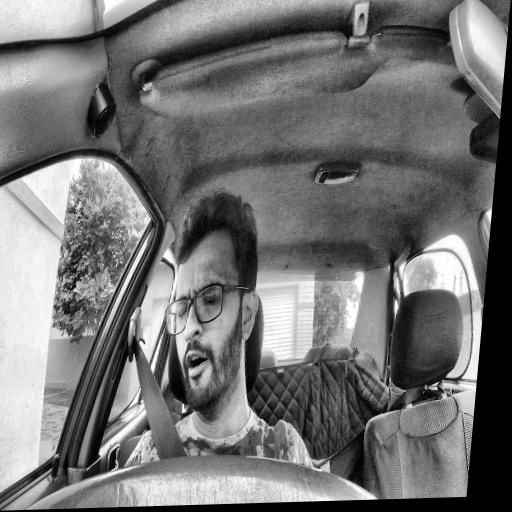drowsy: (156, 187, 270, 413)
